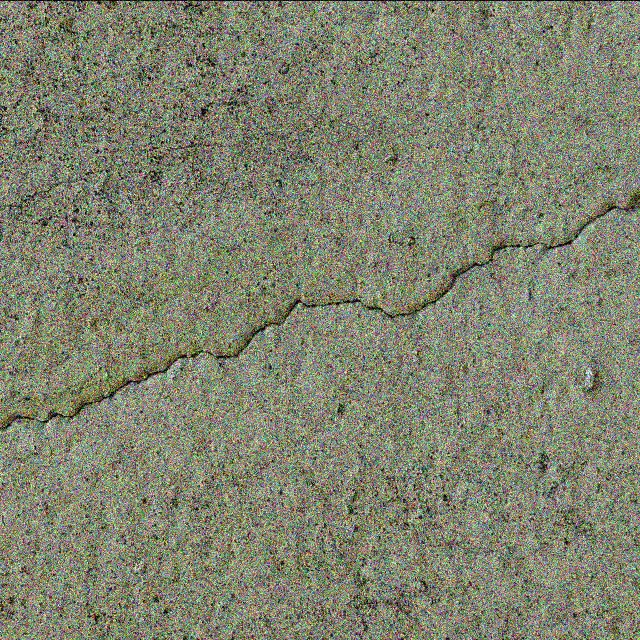SurfaceCrack: (1, 179, 640, 458)
